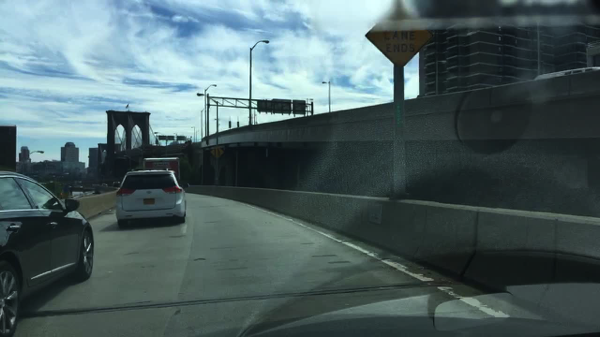car: (0, 168, 95, 337), (114, 169, 191, 225), (112, 180, 122, 189)
traffic sign: (365, 8, 432, 68), (272, 99, 291, 112), (293, 100, 306, 115), (257, 98, 270, 110), (211, 147, 222, 159)
truck: (141, 157, 180, 182)
